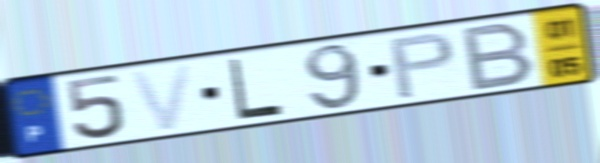5: (62, 71, 129, 141)
9: (299, 42, 363, 112)
B: (461, 19, 539, 94)
L: (226, 56, 286, 123)
P: (386, 30, 458, 102)
V: (125, 61, 197, 134)
